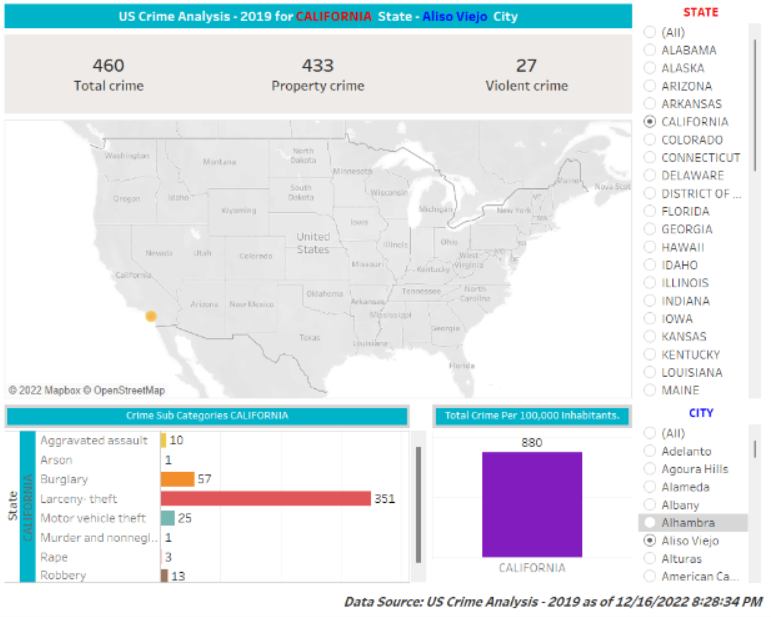

The dashboard page shown, as its layout file describes it:
{"tool":"tableau","page":{"name":"Dashboard","canvas":[1000,800],"ordinal":0},"visuals":[{"type":"worksheet","title":"Dashboard Title","mark":"Automatic","box":[8,8,814,39]},{"type":"filter","title":"Main Categories- State","param":"[federated.111ipa601gzyko19r8ysp18vg9p4].[none:State:nk]","box":[822,8,170,515.1]},{"type":"worksheet","title":"Main Categories- State","mark":"Automatic","box":[8,47,814,109.6]},{"type":"worksheet","title":"State-All Map","mark":"Heatmap","box":[8,156.6,814,366.4]},{"type":"worksheet","title":"Sub Categories- State","mark":"Automatic","rows":["State"],"box":[8,523.1,550,236.9]},{"type":"worksheet","title":"Sum of Total Crime Per 100,000 inhabitants","mark":"Automatic","rows":["Calculation_113997387563728896"],"cols":["State"],"box":[558,523.1,264,236.9]},{"type":"filter","title":"Sub Categories- State","param":"[federated.111ipa601gzyko19r8ysp18vg9p4].[none:City:nk]","box":[822,523.1,170,236.9]},{"type":"worksheet","title":"Data Source","mark":"Automatic","box":[8,760,984,32]}]}

Visuals, with their boxes in screenshot pixels (x1, y1, x2, y2), scaled from the page's 1000x800 canvas onto the 771x617 screenshot:
"Dashboard Title" worksheet: [x1=6, y1=6, x2=634, y2=36]
"Main Categories- State" filter: [x1=634, y1=6, x2=765, y2=403]
"Main Categories- State" worksheet: [x1=6, y1=36, x2=634, y2=121]
"State-All Map" worksheet (Heatmap marks): [x1=6, y1=121, x2=634, y2=403]
"Sub Categories- State" worksheet: [x1=6, y1=403, x2=430, y2=586]
"Sum of Total Crime Per 100,000 inhabitants" worksheet: [x1=430, y1=403, x2=634, y2=586]
"Sub Categories- State" filter: [x1=634, y1=403, x2=765, y2=586]
"Data Source" worksheet: [x1=6, y1=586, x2=765, y2=611]
